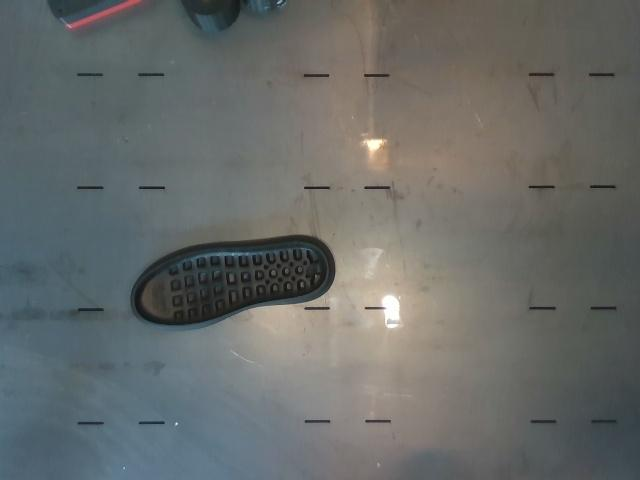shoes: (133, 242, 328, 325)
